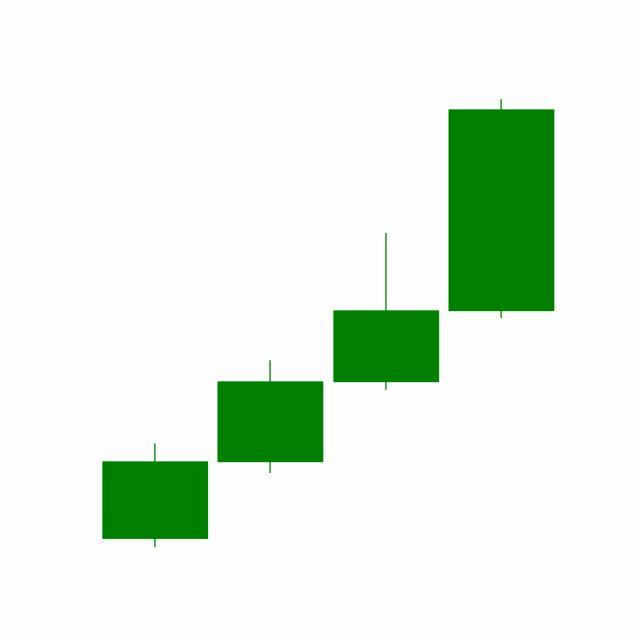Marubozu: (444, 98, 560, 322)
